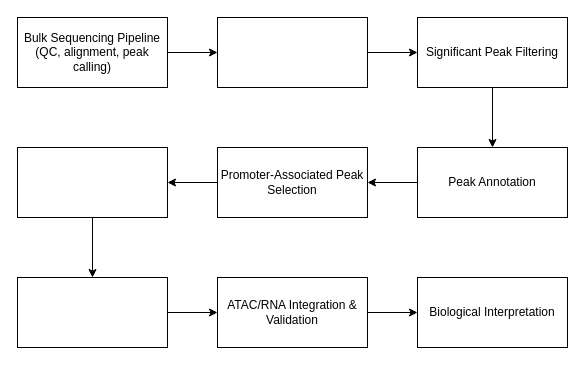
The diagram is 585 pixels wide and 365 high, and some of its shapes have lost their labels. Here are the shapes that lost their labels. From the top down, the centre of each, then its label:
pixel 292 52: Differential Accessibility Analysis (DiffBind + DESeq2)
pixel 92 182: GO / KEGG / GSEA Enrichment
pixel 92 312: RNA-seq Differential Expression
